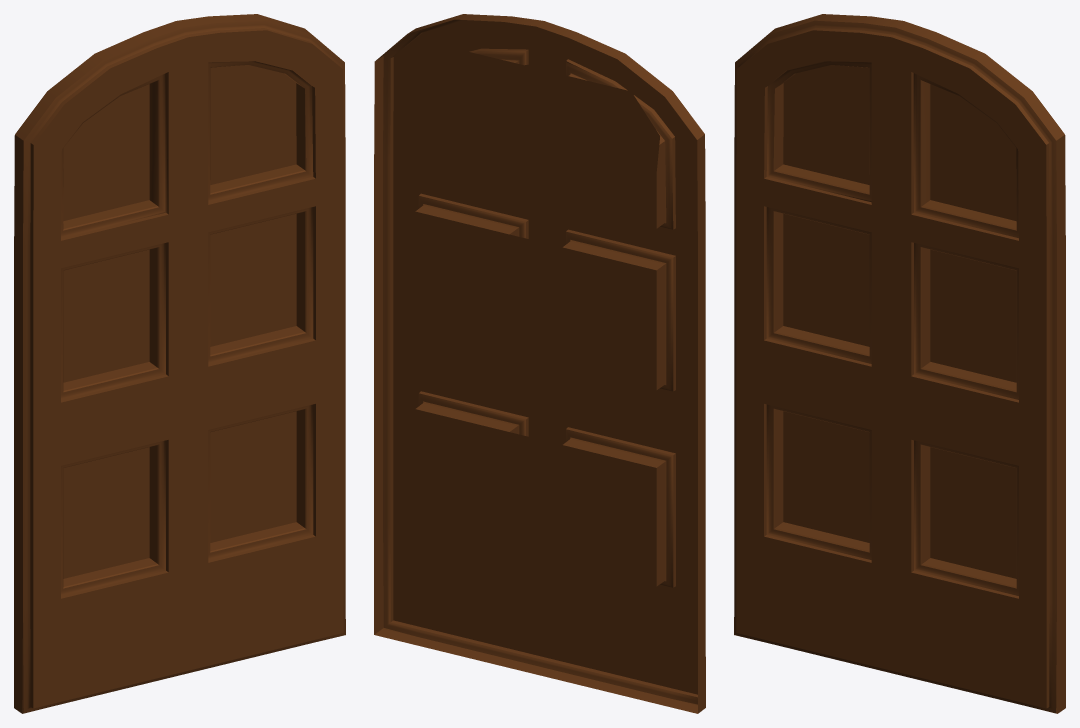
Rendered from FairyTale300.gltf.
3 renders of one model, left to right at view 1: azimuth 30°, elevation 25°; view 2: azimuth 150°, elevation 25°; view 3: azimuth 330°, elevation 25°, orthographic.
Visible parts, largest first — view 1: 网格262; view 2: 网格262; view 3: 网格262.
Part boxes in pixels (x1=…): 网格262: x1=14, y1=14, x2=345, y2=713; 网格262: x1=374, y1=14, x2=705, y2=713; 网格262: x1=734, y1=14, x2=1065, y2=713.
Bounding box in the file's own units: 1.1 × 2.1 × 0.0733.
